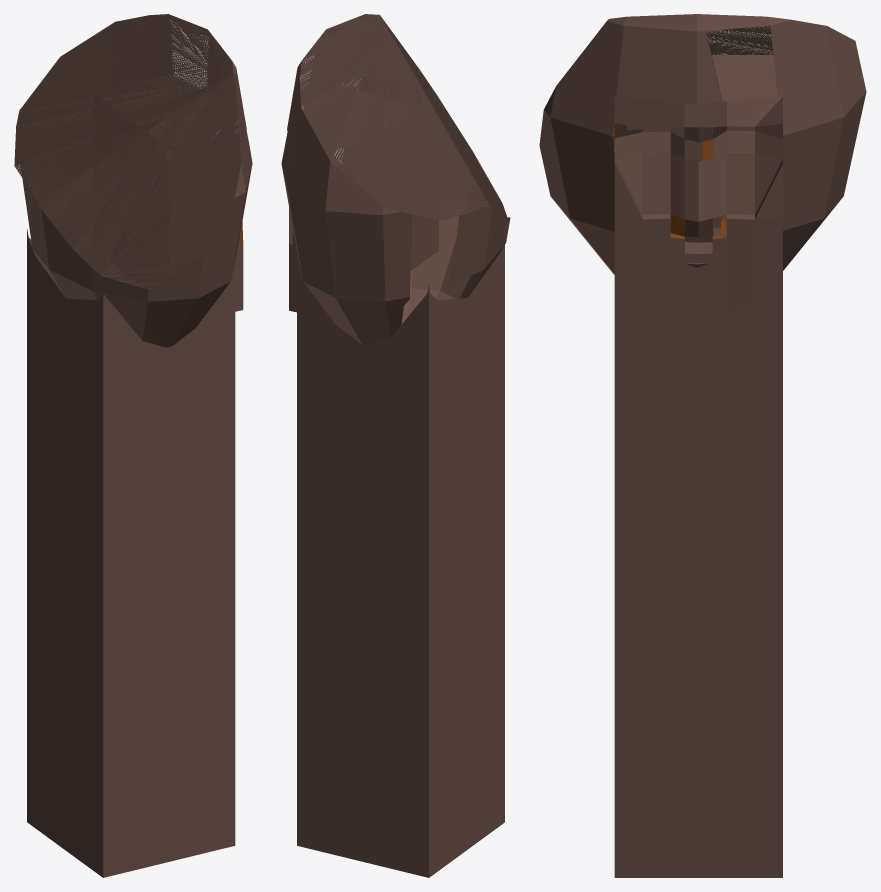
The model's file is idol_exploded_2.fbx.
3 views of the same model, side by side, from view 1: azimuth 30°, elevation 25°; view 2: azimuth 150°, elevation 25°; view 3: azimuth 270°, elevation 25° (orthographic). The views are drawn at different scales.
Parts seen in each view (by area): view 1: Cube.002; view 2: Cube.002; view 3: Cube.002.
Boxes of the visible parts, x1,y1,x2,y2 form: Cube.002: (14,14,252,877); Cube.002: (281,14,510,877); Cube.002: (539,14,866,877).
Size of the model in its own units: 275 by 1138 by 388.
1 material, 1 textured.
